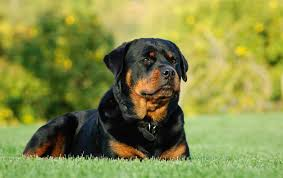dog: (138, 51, 180, 98)
